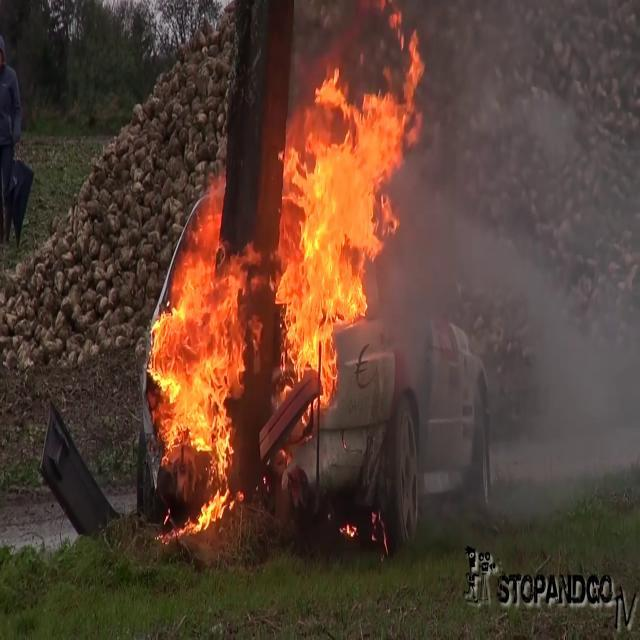Fire: (271, 59, 420, 386), (143, 180, 249, 538)
Smoke: (392, 206, 640, 532)
